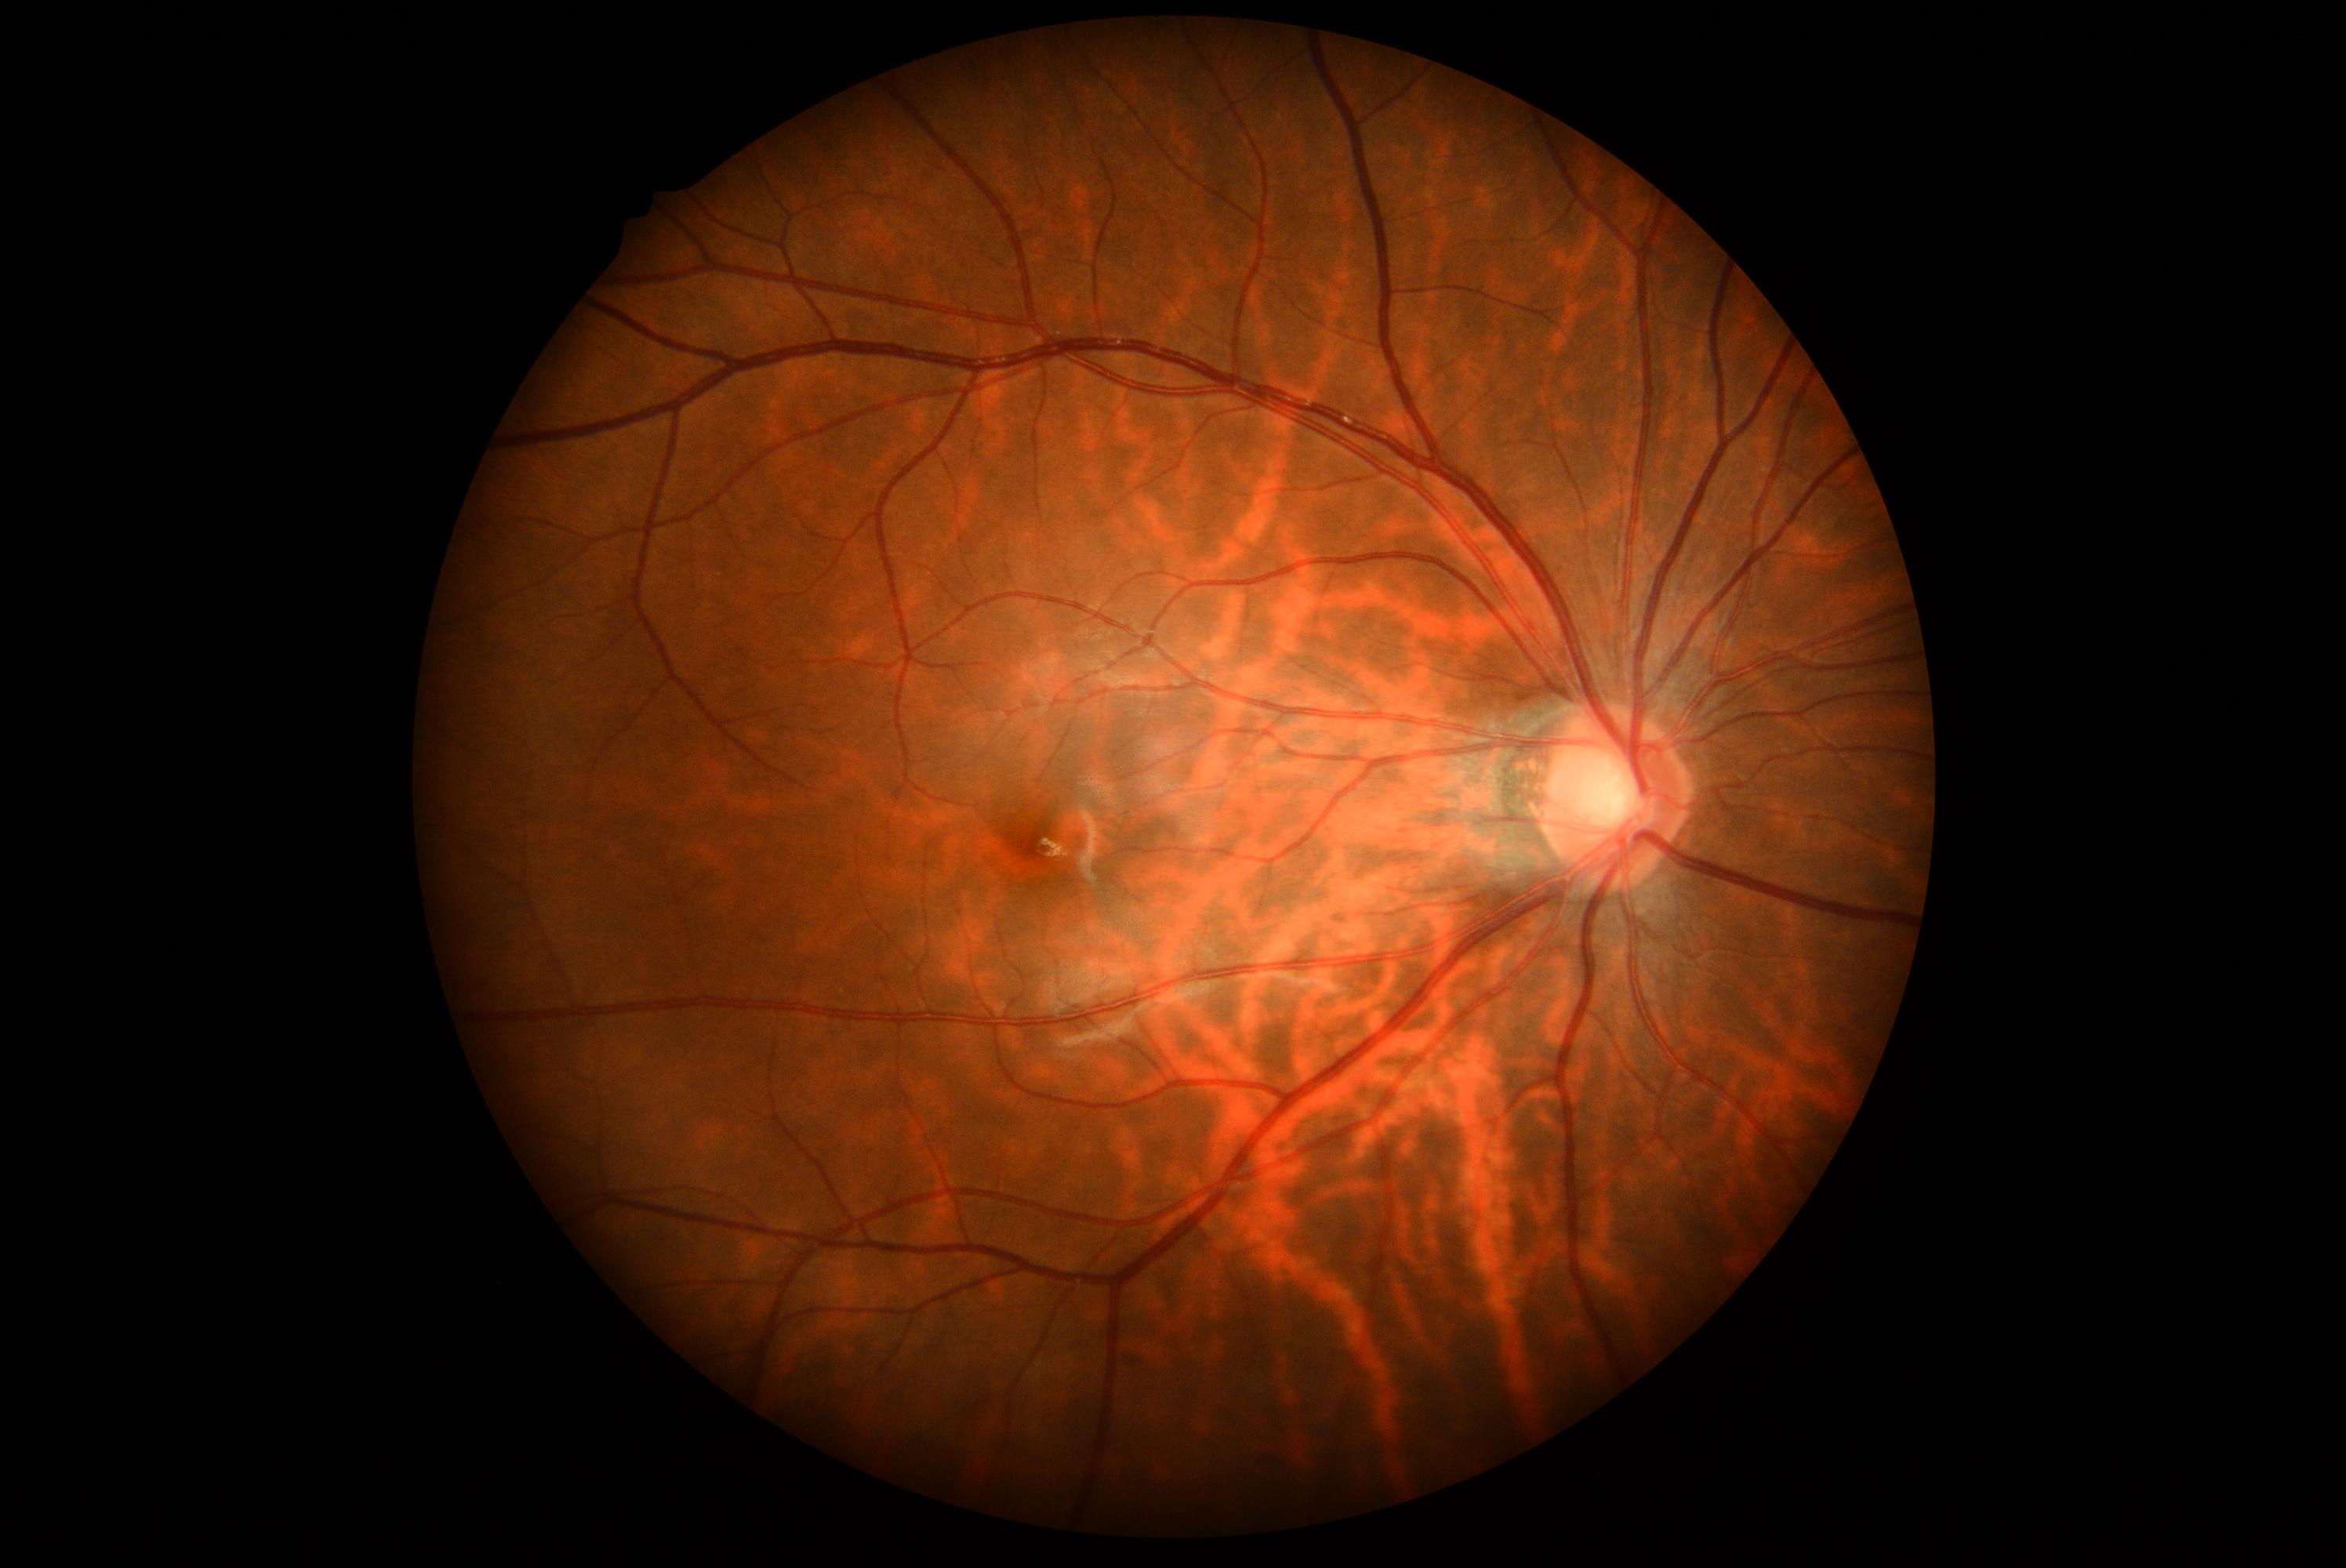Fovea: (960, 759, 1127, 921)
